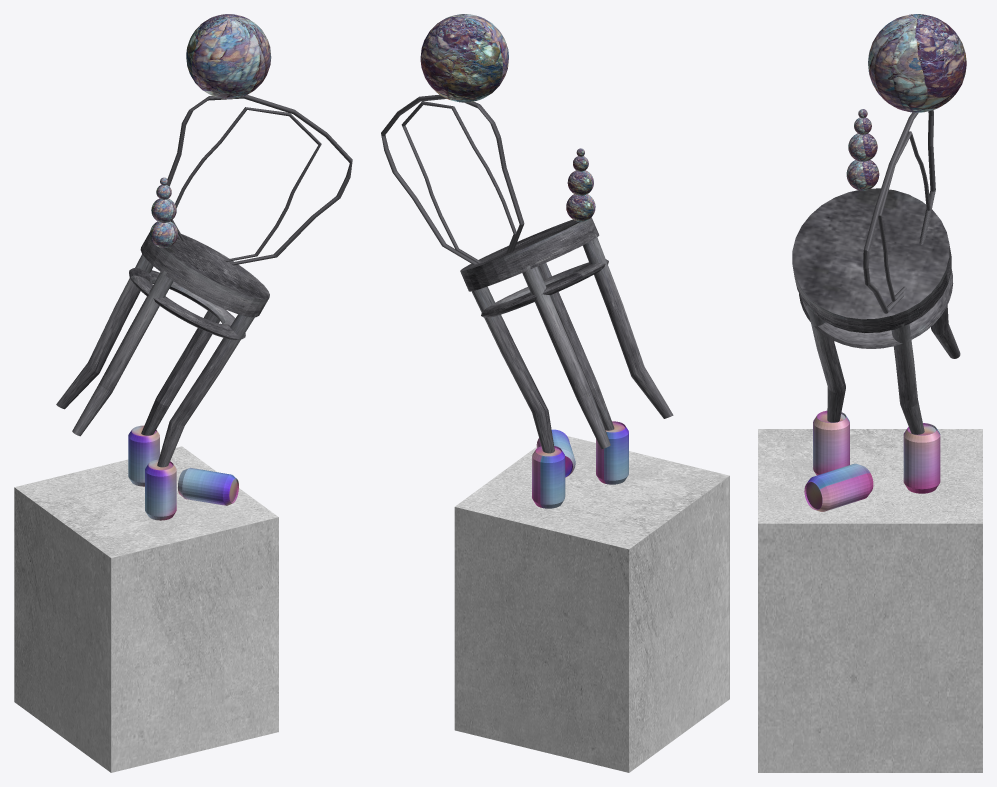
The model's file is Stoel Low Polly.gltf.
3 views of the same model, side by side, from view 1: azimuth 30°, elevation 25°; view 2: azimuth 150°, elevation 25°; view 3: azimuth 270°, elevation 25° (orthographic). The views are drawn at different scales.
Visible parts, largest first — view 1: Cube, Sphere, Cylinder.003, Cylinder.009, Cylinder.004, Cylinder.005, Cylinder.007, Torus, Cylinder.006, Cylinder.002, Cylinder.001, Cylinder (+1 smaller); view 2: Cube, Sphere, Cylinder.003, Cylinder.009, Cylinder.007, Cylinder.004, Cylinder.006, Cylinder, Torus, Cylinder.001, Cylinder.005, Sphere.001; view 3: Cube, Cylinder.003, Sphere, Cylinder.009, Cylinder.002, Cylinder, Torus, Cylinder.001, Cylinder.006, Cylinder.005, Sphere.001, Cylinder.007 (+1 smaller).
Boxes of the visible parts, x1,y1,x2,y2 form: Cube: [14, 446, 278, 772]; Sphere: [186, 14, 271, 98]; Cylinder.003: [140, 232, 269, 317]; Cylinder.009: [167, 95, 352, 265]; Cylinder.004: [72, 270, 173, 436]; Cylinder.005: [157, 314, 256, 467]; Cylinder.007: [56, 254, 153, 409]; Torus: [129, 267, 245, 340]; Cylinder.006: [141, 308, 225, 435]; Cylinder.002: [178, 467, 238, 505]; Cylinder.001: [145, 459, 176, 520]; Cylinder: [128, 425, 159, 486]; Cube: [454, 436, 729, 772]; Sphere: [420, 14, 508, 102]; Cylinder.003: [460, 217, 599, 291]; Cylinder.009: [381, 94, 524, 264]; Cylinder.007: [522, 265, 610, 449]; Cylinder.004: [583, 234, 673, 418]; Cylinder.006: [471, 286, 554, 453]; Cylinder: [532, 446, 565, 508]; Torus: [481, 259, 608, 317]; Cylinder.001: [596, 421, 628, 484]; Cylinder.005: [537, 263, 614, 430]; Sphere.001: [566, 194, 595, 221]; Cube: [758, 429, 982, 772]; Cylinder.003: [792, 188, 951, 333]; Sphere: [868, 14, 966, 112]; Cylinder.009: [863, 110, 935, 313]; Cylinder.002: [804, 463, 873, 511]; Cylinder: [903, 423, 940, 493]; Torus: [799, 269, 953, 348]; Cylinder.001: [813, 410, 849, 475]; Cylinder.006: [891, 323, 924, 434]; Cylinder.005: [806, 304, 845, 422]; Sphere.001: [846, 160, 879, 190]; Cylinder.007: [931, 305, 960, 358].
Size of the model in its own units: 3.59 by 7.85 by 2.09.
4 materials, 4 textured.
